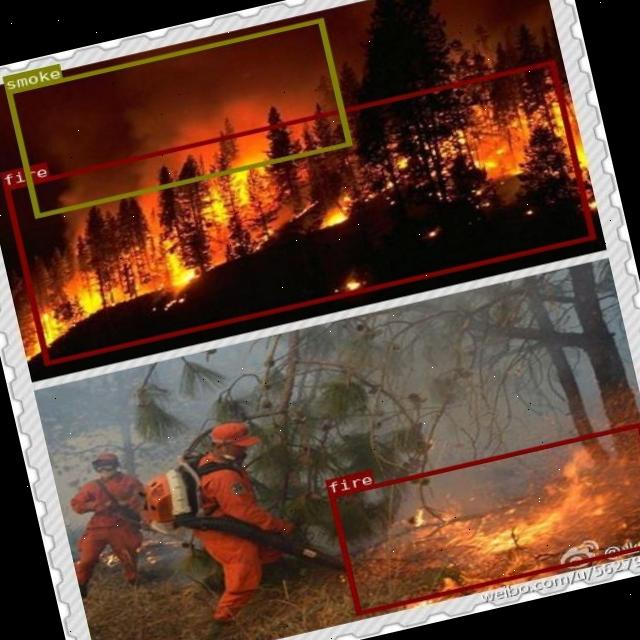fire: (2, 58, 594, 364), (328, 421, 640, 614)
smoke: (4, 18, 350, 218)
